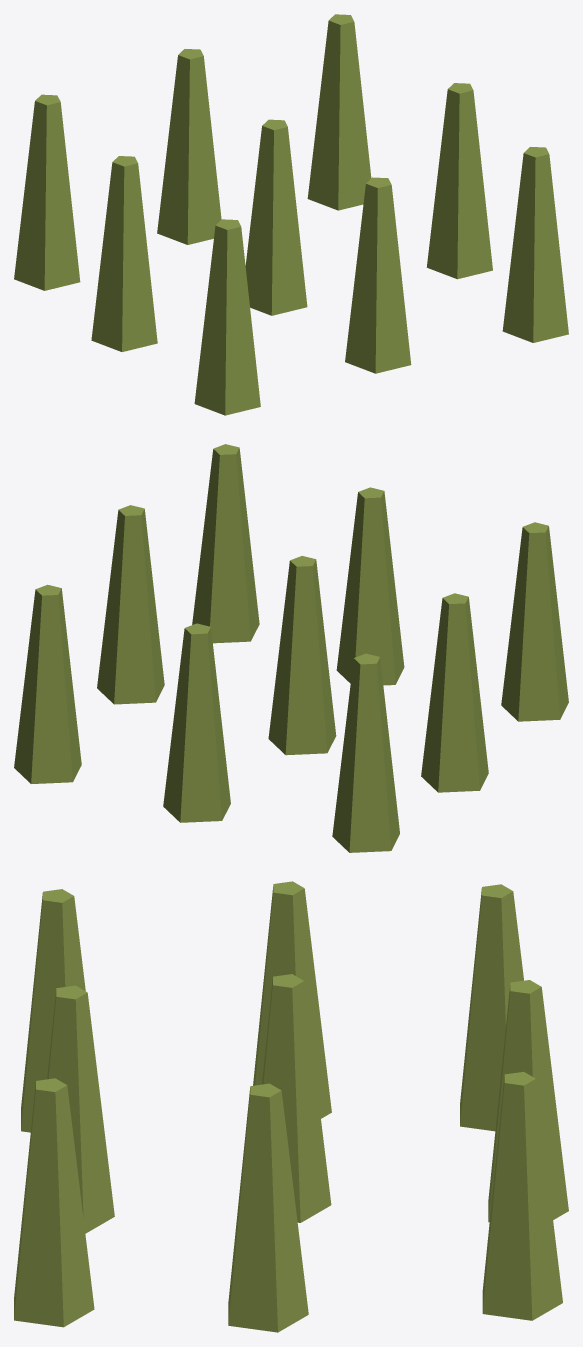
Rendered from crop_wheat_grown.glb.
3 renders of one model, top to bottom at view 1: azimuth 30°, elevation 25°; view 2: azimuth 150°, elevation 25°; view 3: azimuth 270°, elevation 25°, orthographic. The views are drawn at different scales.
Parts seen in each view (by area): view 1: crop_wheat_grown; view 2: crop_wheat_grown; view 3: crop_wheat_grown.
Part boxes in pixels (<box>): crop_wheat_grown: <box>14,14,568,415</box>; crop_wheat_grown: <box>14,444,568,852</box>; crop_wheat_grown: <box>14,881,568,1332</box>.
Size of the model in its own units: 1.14 by 0.5 by 1.12.
